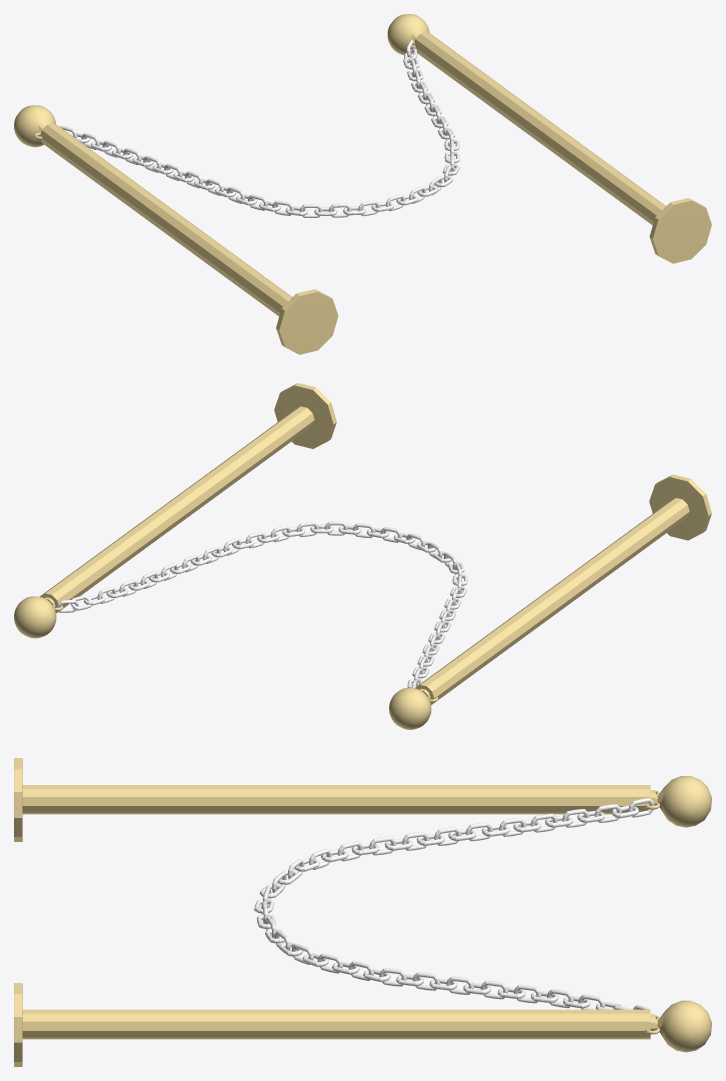
File: barriertextured.fbx
3 renders of one model, top to bottom at view 1: azimuth 30°, elevation 25°; view 2: azimuth 150°, elevation 25°; view 3: azimuth 270°, elevation 25°, orthographic. The views are drawn at different scales.
Visible parts, largest first — view 1: pTorus3, pTorus6; view 2: pTorus3, pTorus6; view 3: pTorus6, pTorus3.
Part boxes in pixels (x1,y1,x2,y2): pTorus3: [14, 105, 338, 354]; pTorus6: [387, 14, 711, 263]; pTorus3: [389, 474, 711, 729]; pTorus6: [14, 383, 336, 638]; pTorus6: [14, 983, 711, 1066]; pTorus3: [14, 758, 711, 841].
Bounding box in the file's own units: 4.67 × 0.6087 × 5.29.
